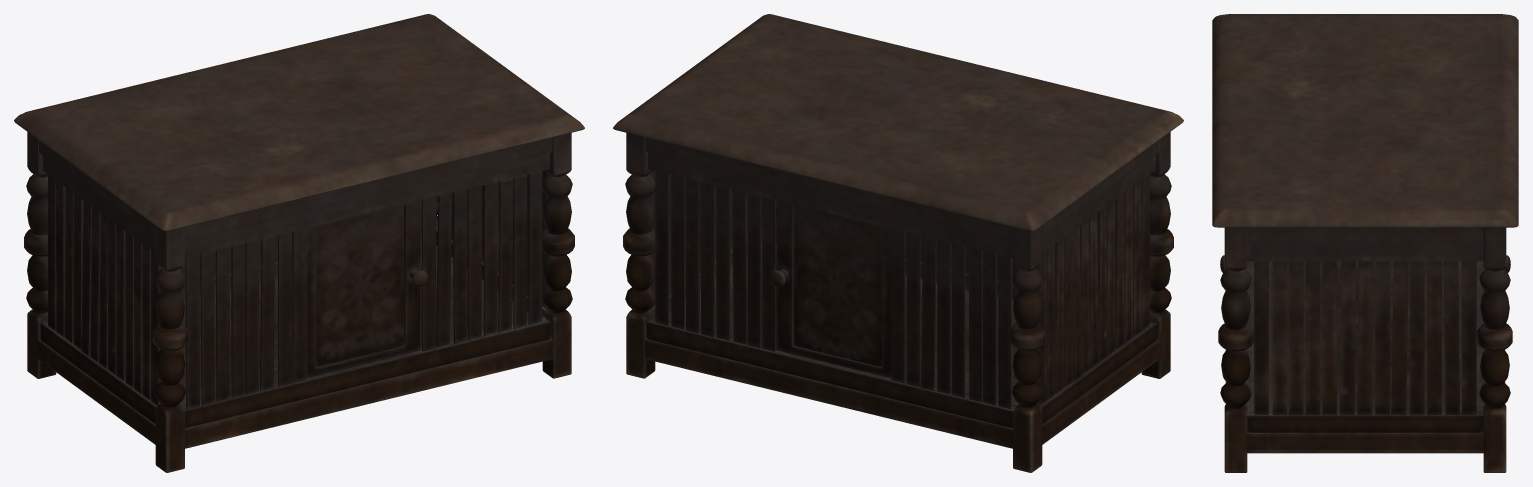
The model's file is gallinera_table.glb.
3 views of the same model, side by side, from view 1: azimuth 30°, elevation 25°; view 2: azimuth 150°, elevation 25°; view 3: azimuth 270°, elevation 25° (orthographic).
Visible parts, largest first — view 1: gallinera_table, gallinera_table_door_a; view 2: gallinera_table, gallinera_table_door_b; view 3: gallinera_table.
Part boxes in pixels (box(x1,y1,x2,y2)): gallinera_table: box(14, 14, 584, 472); gallinera_table_door_a: box(306, 200, 428, 378); gallinera_table: box(613, 14, 1183, 472); gallinera_table_door_b: box(769, 200, 891, 378); gallinera_table: box(1212, 14, 1518, 472).
Size of the model in its own units: 0.8301 by 0.4878 by 0.5183.
Materials: 1 (1 with a texture image).
